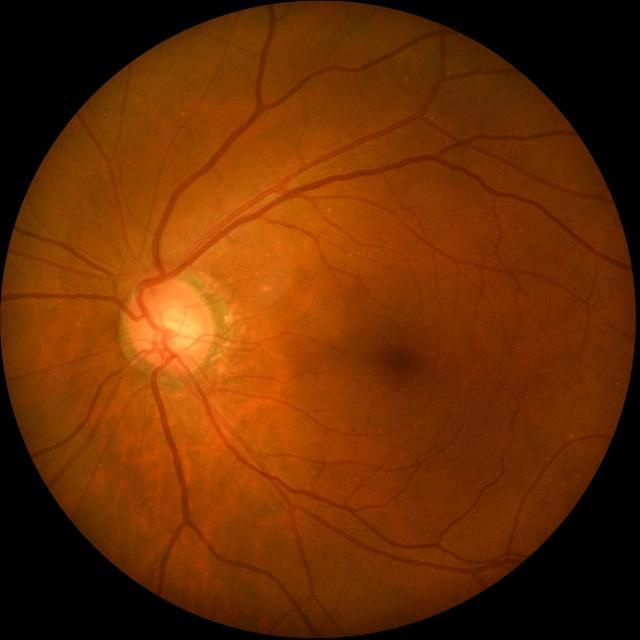OC: (149, 303, 197, 354)
OD: (125, 274, 212, 376)
